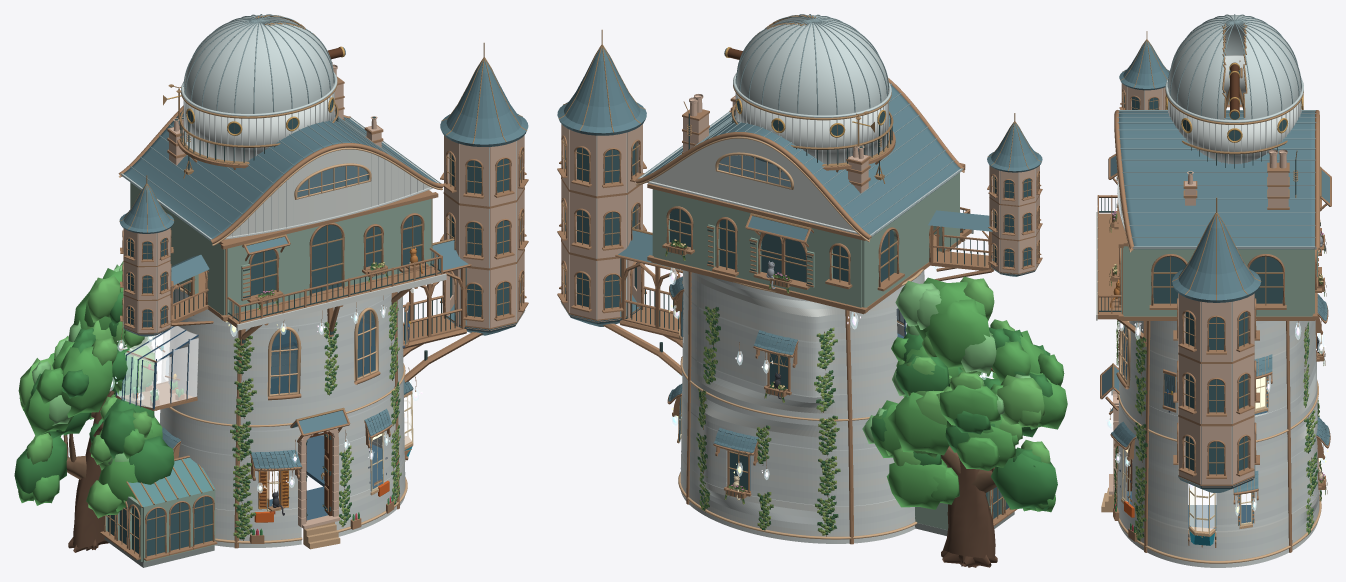
The model's file is mansion-v04-u5ALvGJc.glb.
The picture shows the model from 3 angles, left to right: view 1: azimuth 30°, elevation 25°; view 2: azimuth 150°, elevation 25°; view 3: azimuth 270°, elevation 25°; orthographic projection.
Parts seen in each view (by area): view 1: M01_Reuse_TREE_Left_Foliage, M01_Reuse_ObsDome_Curved, M01_Reuse_CURVE_BellGable_SlateRoof, M01_Reuse_CURVE_ArchedGable_PaintedTimber, M01_Tower_WitchHat, M01_Reuse_CURVE_Observatory_CylindricalDrum, M01_Reuse_TREE_Left_Trunk, M01_Conservatory_RoofGlass, M01_Reuse_INT_Slab_Living, M01_Reuse_CURVE_Roof_Soffit, M04_WestPassage, M01_GrandBalcony_Deck (+37 smaller); view 2: M01_Reuse_TREE_Left_Foliage, M01_Reuse_ObsDome_Curved, M01_Reuse_CURVE_BellGable_SlateRoof, M01_Reuse_CURVE_ArchedGable_Rear, M01_Reuse_TREE_Left_Trunk, M01_Tower_WitchHat, M01_Reuse_CURVE_Observatory_CylindricalDrum, M04_WestPassage, M01_Reuse_CURVE_Roof_Soffit, M04_WestTurret_M01_Tower_WitchHat, M01_Reuse_CURVE_Gable_Back_Bargeboard, M03_RearBay_1_Glass (+63 smaller); view 3: M01_Reuse_CURVE_BellGable_SlateRoof, M01_Reuse_ObsDome_Curved, M01_Tower_WitchHat, M01_Reuse_CURVE_Observatory_CylindricalDrum, M01_UpperFloor_Side_L.002, M01_UpperFloor_Side_R.003, M01_GrandBalcony_Deck, M04_WestTurret_M01_Tower_WitchHat, M01_UpperFloor_Side_Glass.004, M01_UpperFloor_Side_Glass.003, M01_Reuse_CURVE_Right_Clapboard_02, M01_Reuse_CURVE_Right_Clapboard_03 (+81 smaller).
Part boxes in pixels (x1,y1,x2,y2): M01_Reuse_TREE_Left_Foliage: [14, 261, 174, 518]; M01_Reuse_ObsDome_Curved: [184, 15, 333, 113]; M01_Reuse_CURVE_BellGable_SlateRoof: [122, 110, 436, 240]; M01_Reuse_CURVE_ArchedGable_PaintedTimber: [228, 147, 429, 236]; M01_Tower_WitchHat: [440, 60, 528, 146]; M01_Reuse_CURVE_Observatory_CylindricalDrum: [185, 84, 333, 161]; M01_Reuse_TREE_Left_Trunk: [63, 346, 156, 552]; M01_Conservatory_RoofGlass: [128, 457, 215, 507]; M01_Reuse_INT_Slab_Living: [267, 435, 382, 520]; M01_Reuse_CURVE_Roof_Soffit: [121, 118, 439, 240]; M04_WestPassage: [170, 254, 213, 326]; M01_GrandBalcony_Deck: [227, 267, 440, 327]; M01_Reuse_TREE_Left_Foliage: [862, 276, 1067, 512]; M01_Reuse_ObsDome_Curved: [736, 15, 888, 115]; M01_Reuse_CURVE_BellGable_SlateRoof: [642, 84, 961, 238]; M01_Reuse_CURVE_ArchedGable_Rear: [650, 136, 854, 230]; M01_Reuse_TREE_Left_Trunk: [941, 368, 997, 567]; M01_Tower_WitchHat: [557, 47, 646, 135]; M01_Reuse_CURVE_Observatory_CylindricalDrum: [736, 85, 887, 163]; M04_WestPassage: [928, 210, 993, 280]; M01_Reuse_CURVE_Roof_Soffit: [639, 112, 962, 236]; M04_WestTurret_M01_Tower_WitchHat: [987, 123, 1042, 172]; M01_Reuse_CURVE_Gable_Back_Bargeboard: [635, 132, 871, 239]; M03_RearBay_1_Glass: [761, 234, 806, 282]; M01_Reuse_CURVE_BellGable_SlateRoof: [1119, 111, 1316, 249]; M01_Reuse_ObsDome_Curved: [1168, 15, 1300, 119]; M01_Tower_WitchHat: [1172, 215, 1260, 302]; M01_Reuse_CURVE_Observatory_CylindricalDrum: [1169, 55, 1300, 163]; M01_UpperFloor_Side_L.002: [1123, 246, 1152, 316]; M01_UpperFloor_Side_R.003: [1284, 249, 1313, 316]; M01_GrandBalcony_Deck: [1097, 213, 1118, 319]; M04_WestTurret_M01_Tower_WitchHat: [1119, 41, 1169, 90]; M01_UpperFloor_Side_Glass.004: [1249, 256, 1282, 303]; M01_UpperFloor_Side_Glass.003: [1153, 256, 1185, 303]; M01_Reuse_CURVE_Right_Clapboard_02: [1147, 534, 1288, 555]; M01_Reuse_CURVE_Right_Clapboard_03: [1147, 528, 1288, 549].
Size of the model in its own units: 36.61 by 34.67 by 14.88.
